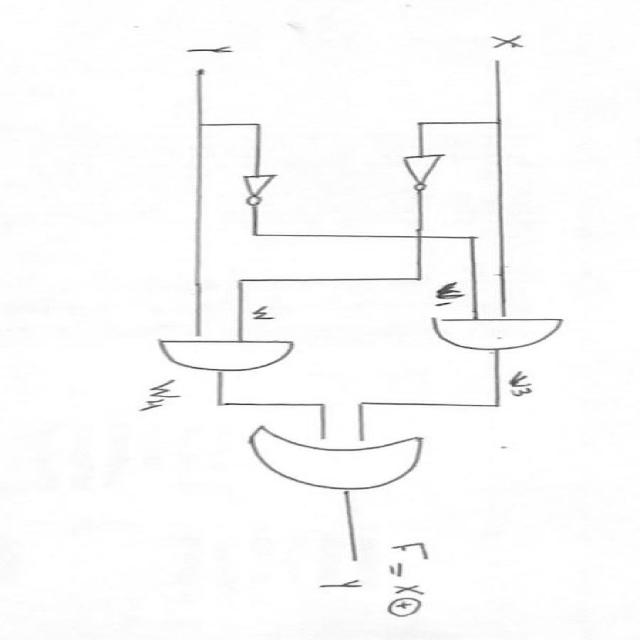AND: (145, 332, 320, 380), (418, 312, 581, 358)
NOT: (373, 150, 467, 200), (228, 169, 296, 213)
OR: (227, 422, 478, 499)
